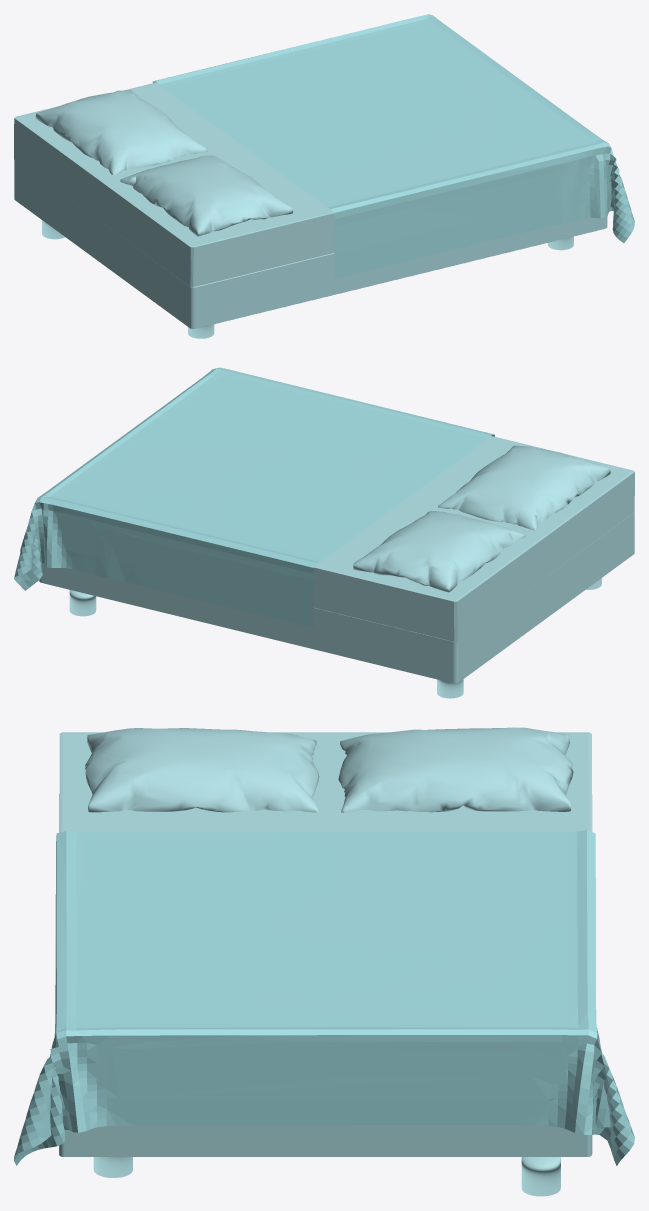
File: bed2.fbx
3 views of the same model, one above another, from view 1: azimuth 30°, elevation 25°; view 2: azimuth 150°, elevation 25°; view 3: azimuth 270°, elevation 25° (orthographic). The views are drawn at different scales.
Visible parts, largest first — view 1: Plane, Cube.002, Cube; view 2: Plane, Cube.002, Cube; view 3: Plane, Cube.002, Cube.
Boxes of the visible parts, x1,y1,x2,y2 form: Plane: (152,14,634,278); Cube.002: (14,82,334,287); Cube: (14,160,607,338); Plane: (14,367,494,627); Cube.002: (314,436,634,643); Cube: (39,512,634,698); Plane: (14,829,634,1165); Cube.002: (59,727,591,832); Cube: (59,794,592,1196).
Size of the model in its own units: 873 by 263 by 720.
